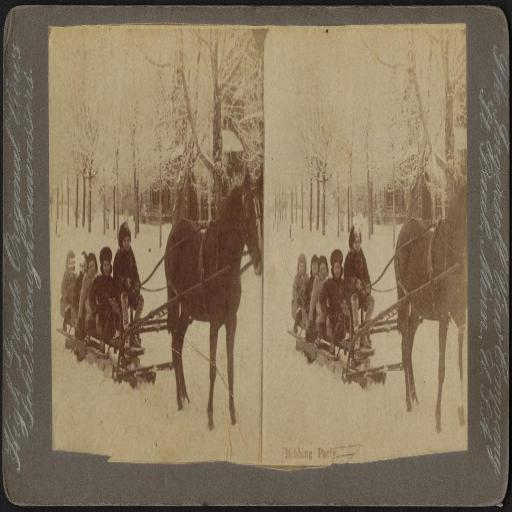Horse: (165, 168, 263, 428), (393, 184, 467, 436)
